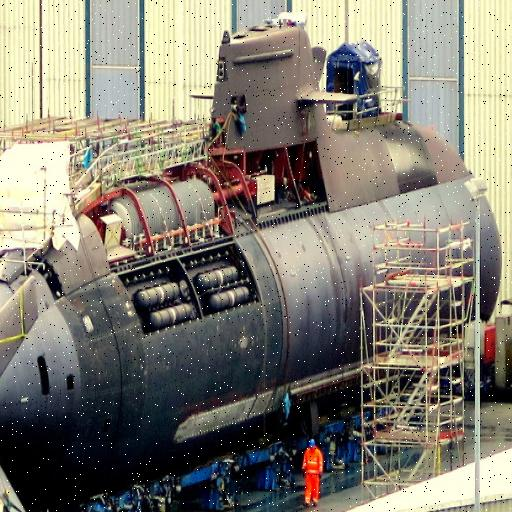submarine: (1, 16, 512, 512)
